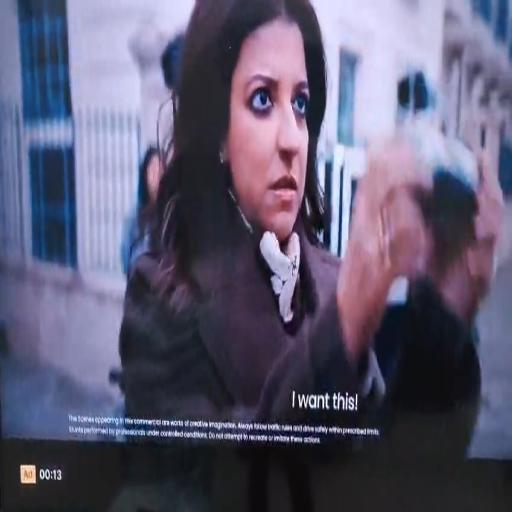ad label: (19, 462, 38, 488)
